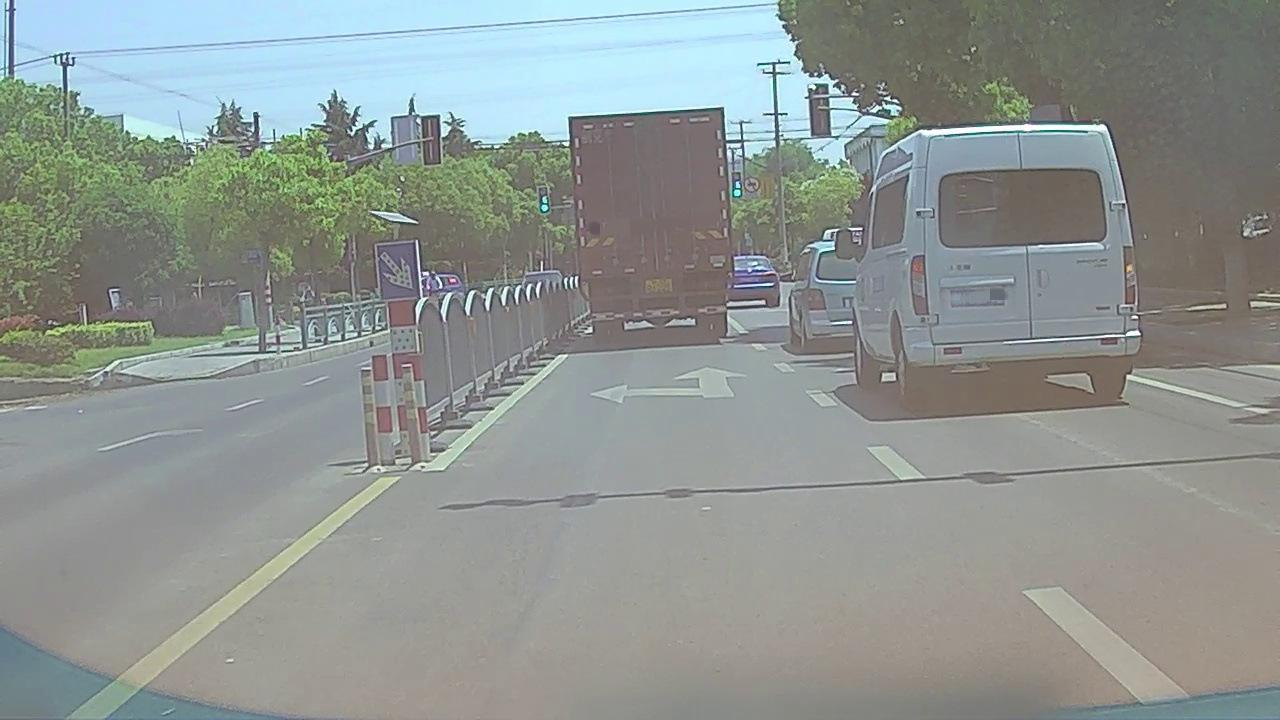traffic_light: (538, 187, 550, 213), (731, 173, 743, 198)
